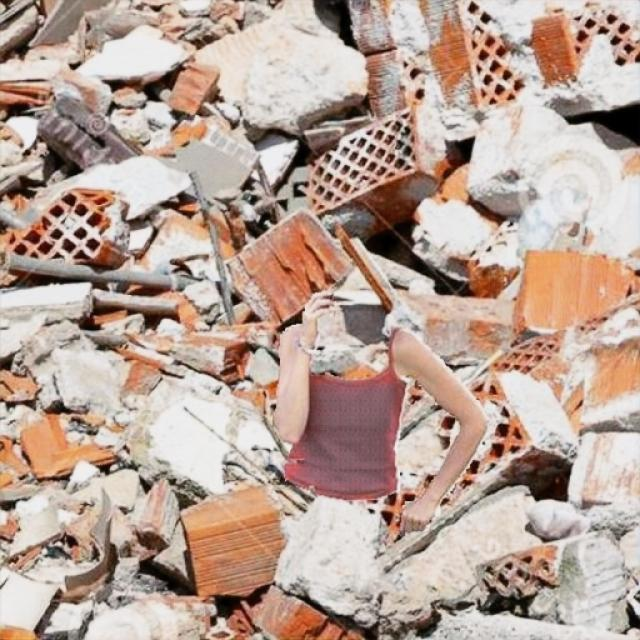Person in Rubble: (273, 290, 487, 536)
